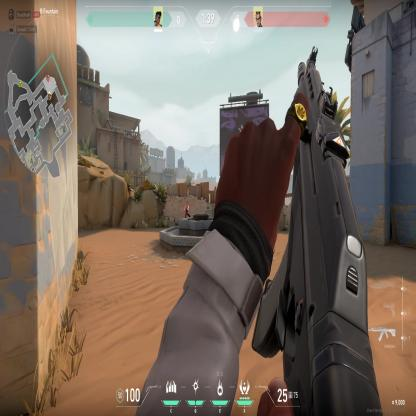enemy: (184, 200, 191, 218)
